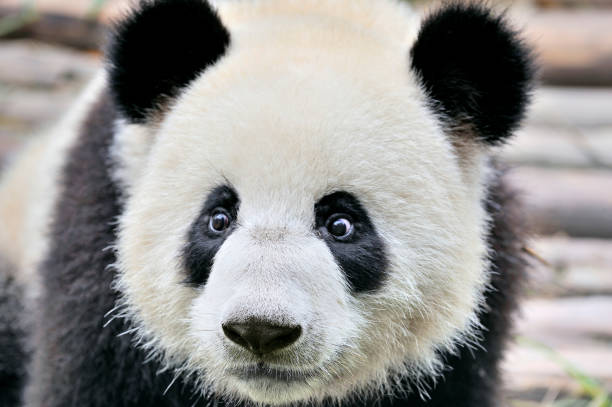panda: (85, 2, 539, 403)
